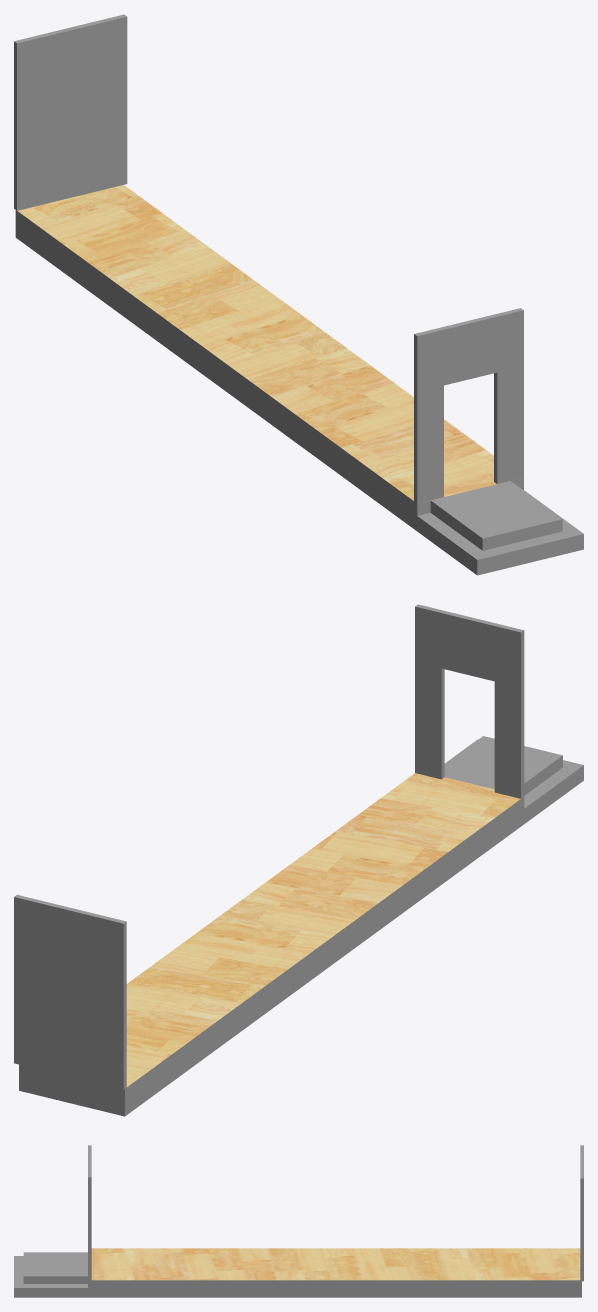
The model's file is CollidorAndFront.fbx.
3 renders of one model, top to bottom at view 1: azimuth 30°, elevation 25°; view 2: azimuth 150°, elevation 25°; view 3: azimuth 270°, elevation 25°, orthographic. The views are drawn at different scales.
Visible parts, largest first — view 1: polySurface14, pCube35, polySurface13; view 2: polySurface14, pCube35, polySurface13; view 3: polySurface14, pCube35, polySurface13.
Part boxes in pixels (x1,y1,x2,y2): polySurface14: (15, 185, 583, 575); pCube35: (14, 14, 127, 210); polySurface13: (414, 308, 523, 503); polySurface14: (19, 736, 583, 1116); pCube35: (14, 894, 126, 1089); polySurface13: (415, 604, 524, 798); polySurface14: (14, 1248, 581, 1297); pCube35: (580, 1145, 583, 1281); polySurface13: (88, 1145, 91, 1280).
Bounding box in the file's own units: 2.07 × 3.5 × 15.05.
